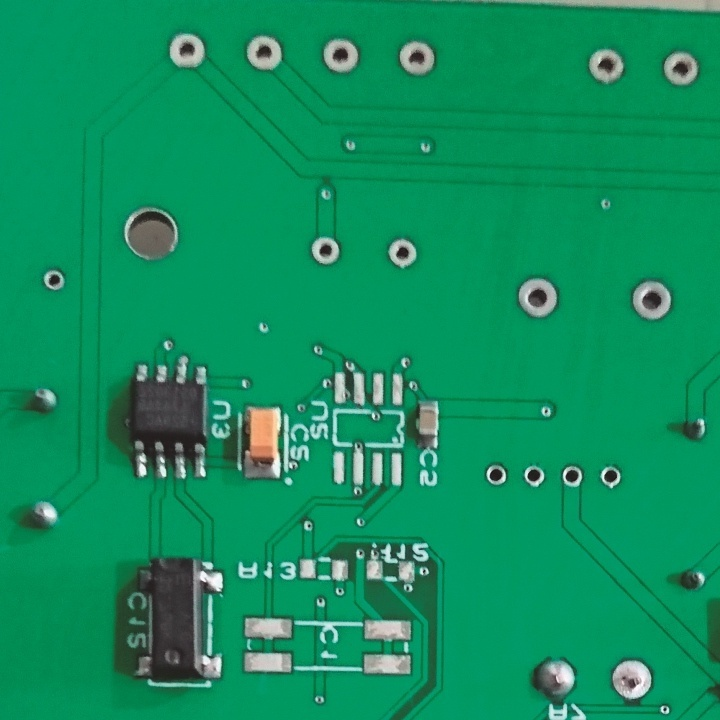F: (511, 272, 562, 320), (629, 275, 676, 326), (610, 654, 657, 704), (164, 26, 208, 77), (392, 35, 440, 80), (242, 31, 288, 76), (658, 48, 705, 89), (583, 44, 628, 86), (319, 35, 361, 77), (304, 235, 344, 269), (386, 236, 421, 274), (482, 461, 510, 491), (37, 267, 70, 292), (597, 463, 625, 492), (521, 460, 547, 491), (558, 463, 587, 490)
